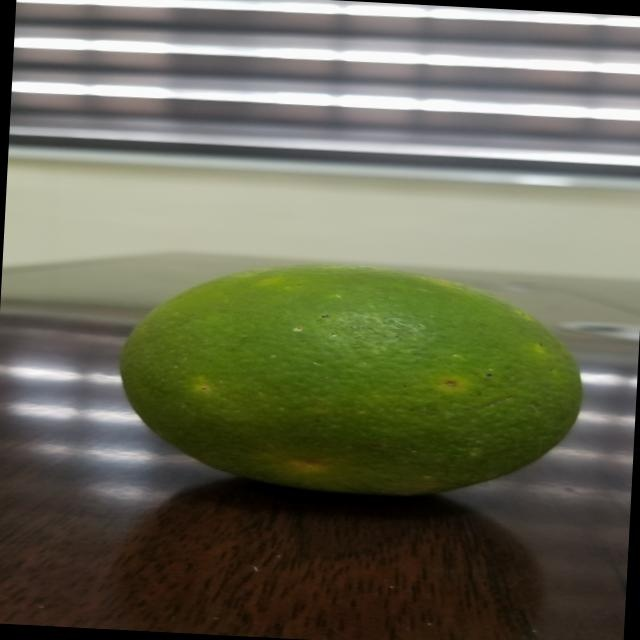agrume: (89, 235, 588, 508)
